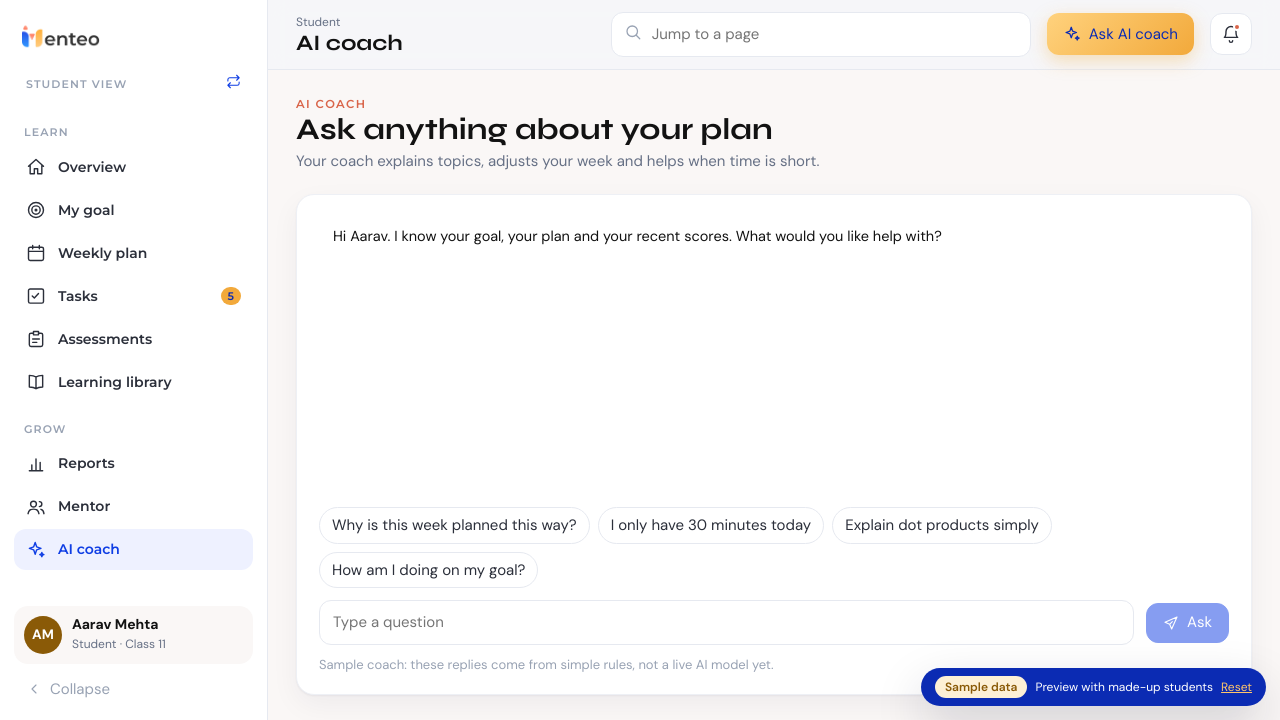
Test case: platform dashboards › answers a coach question and can add a block to the plan
Click the button "I only have 30 minutes today" at coordinates (711, 526), box [598,507,824,544]
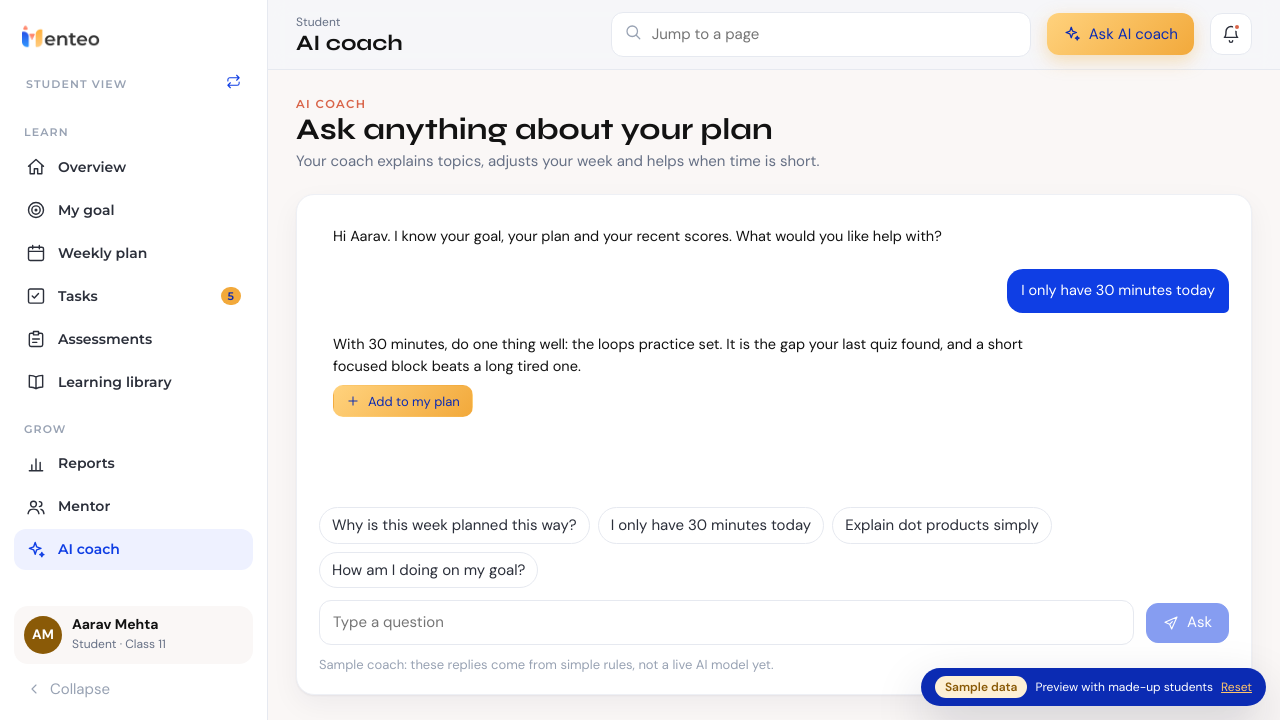
Click the button "Add to my plan" at coordinates (403, 401), box [333,385,473,417]
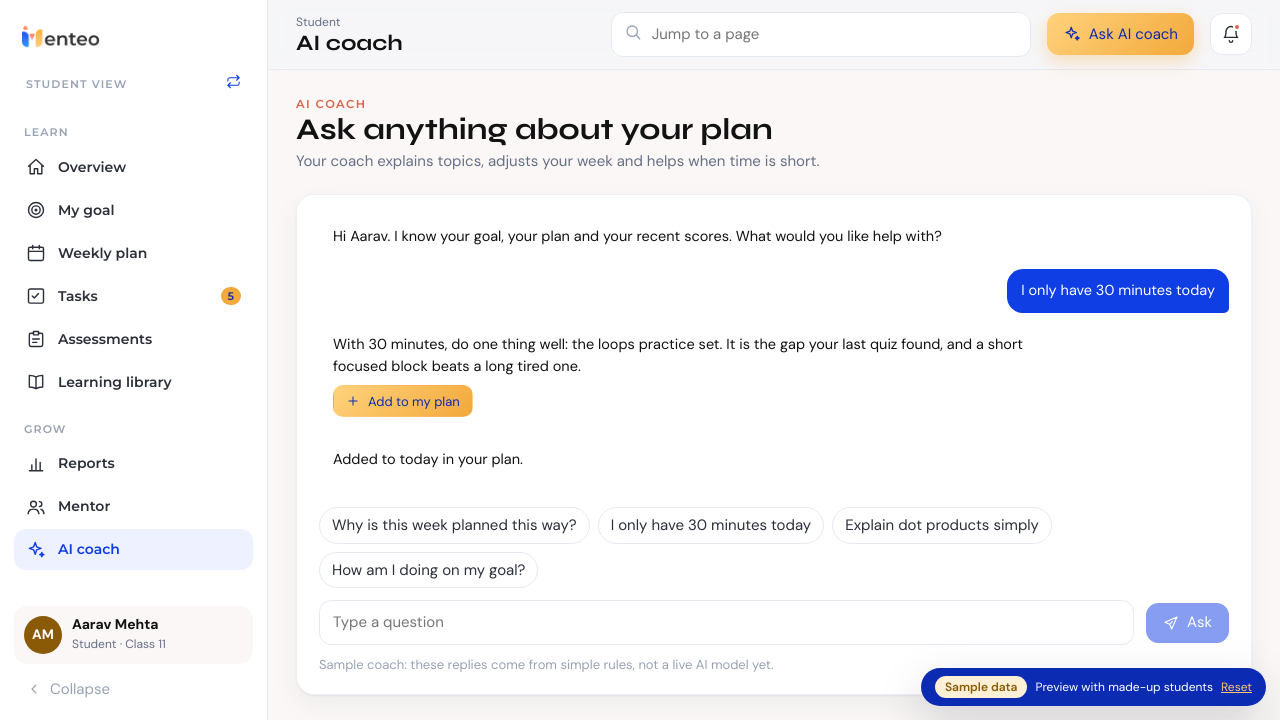
Check: the text "Added to today in your plan." is shown, box [333,450,523,468]
